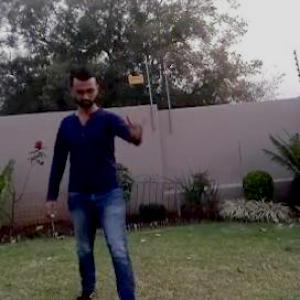takeoff-hand: (123, 109, 149, 142)
